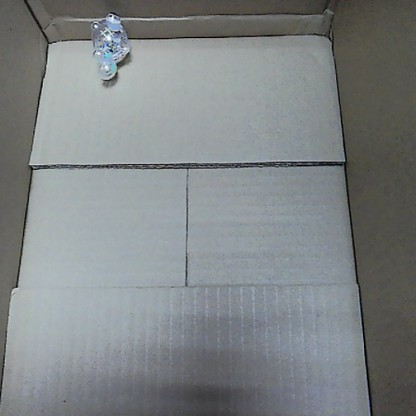whitefish: (83, 8, 133, 84)
